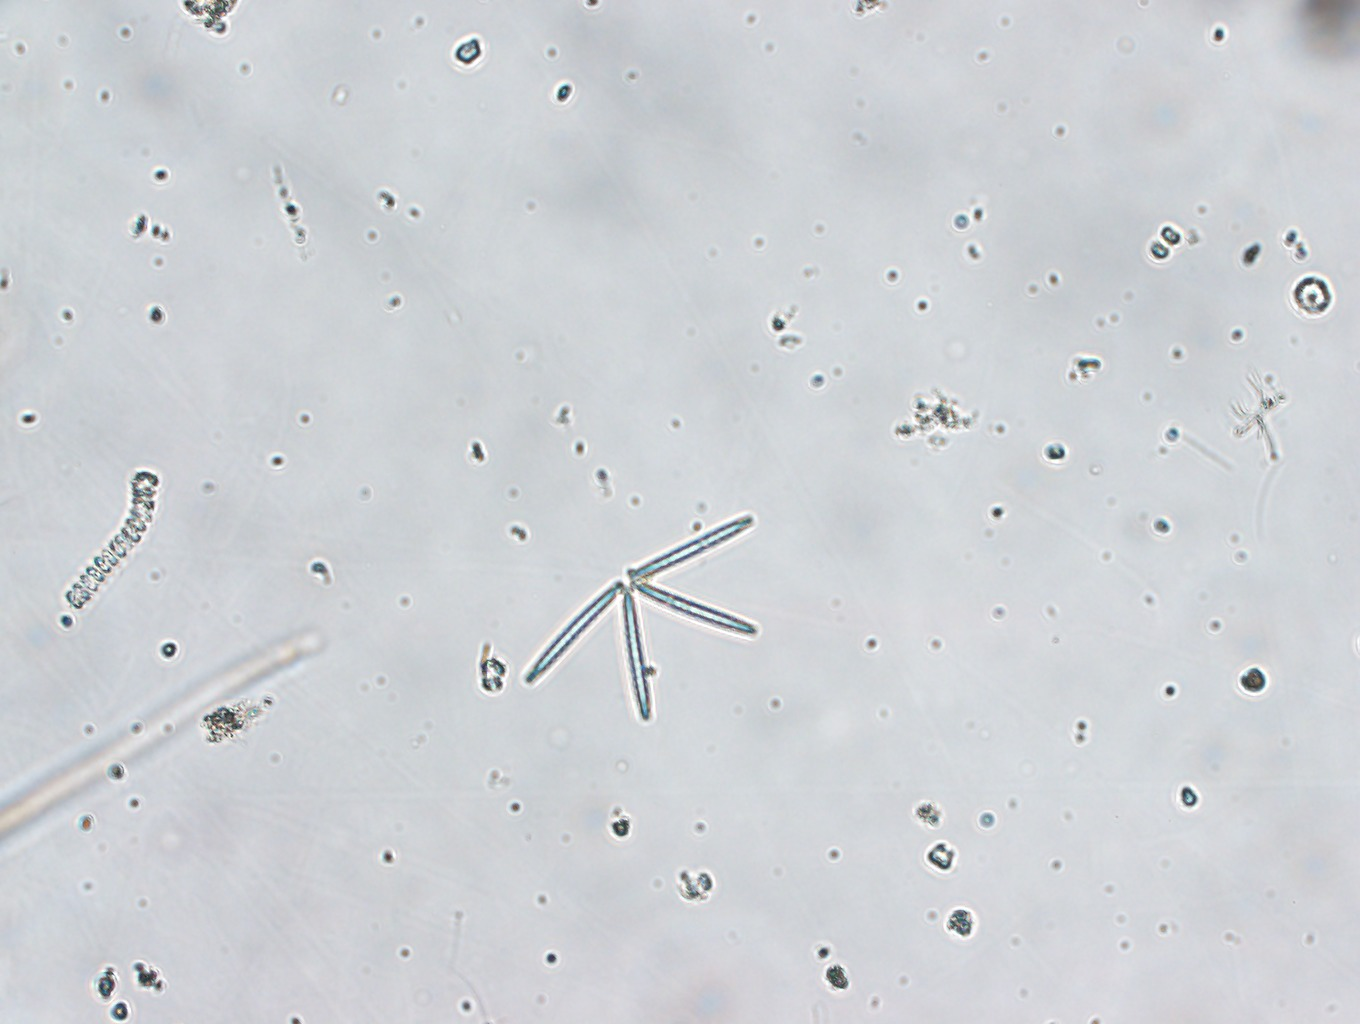skeletonema: (60, 463, 161, 615)
thalassionema nitzschioides: (522, 507, 760, 727)
